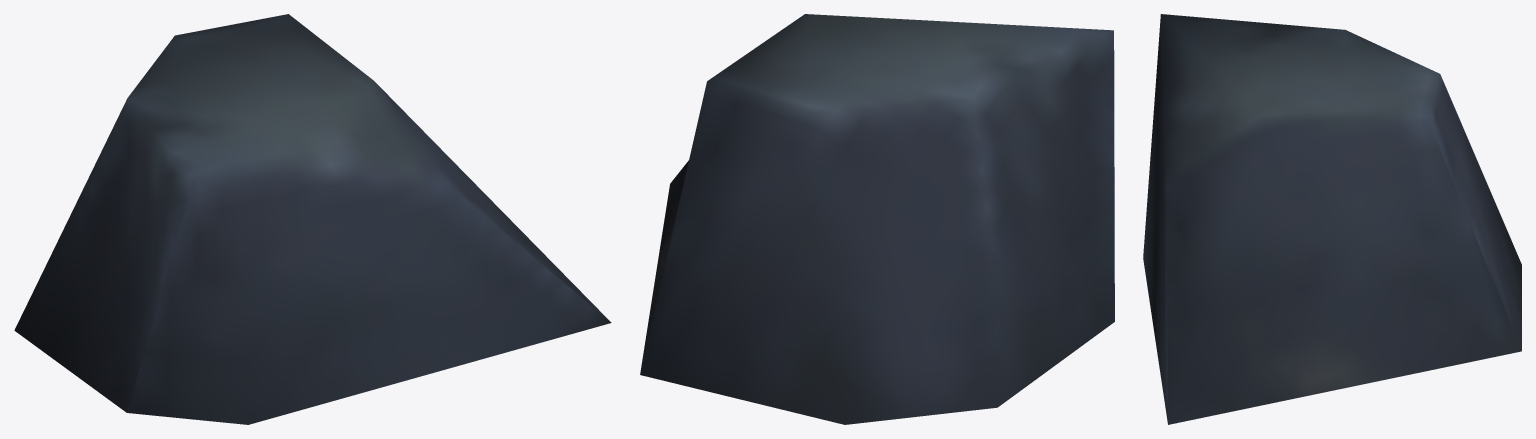
Rendered from Area_02_11.fbx.
3 views of the same model, side by side, from view 1: azimuth 30°, elevation 25°; view 2: azimuth 150°, elevation 25°; view 3: azimuth 270°, elevation 25° (orthographic). The views are drawn at different scales.
Parts seen in each view (by area): view 1: Area_02_11; view 2: Area_02_11; view 3: Area_02_11.
Boxes of the visible parts, x1,y1,x2,y2 form: Area_02_11: [14, 14, 611, 424]; Area_02_11: [640, 14, 1114, 424]; Area_02_11: [1143, 14, 1521, 424].
Bounding box in the file's own units: 139 × 71.94 × 110.
